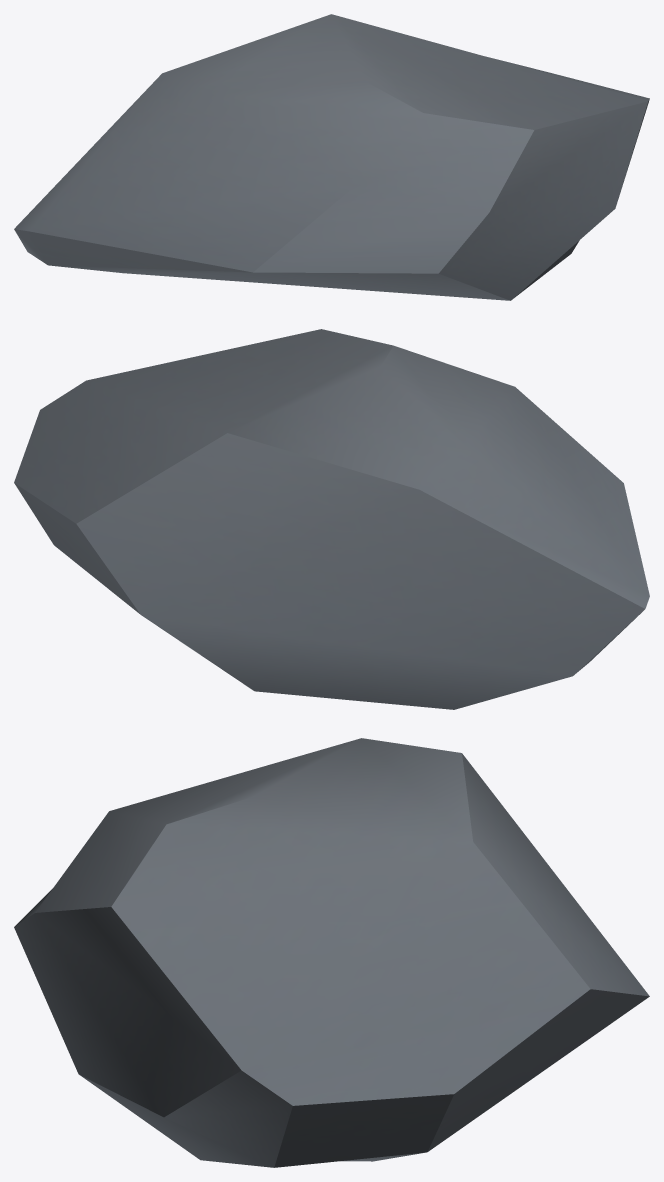
The model's file is rocaRedonda1.fbx.
The picture shows the model from 3 angles, top to bottom: view 1: azimuth 30°, elevation 25°; view 2: azimuth 150°, elevation 25°; view 3: azimuth 270°, elevation 25°; orthographic projection. The views are drawn at different scales.
Visible parts, largest first — view 1: rocaRedonda1; view 2: rocaRedonda1; view 3: rocaRedonda1.
Part boxes in pixels (x1=…): rocaRedonda1: x1=14, y1=14, x2=649, y2=300; rocaRedonda1: x1=14, y1=329, x2=649, y2=709; rocaRedonda1: x1=14, y1=738, x2=649, y2=1167.
Bounding box in the file's own units: 332 × 113 × 245.
